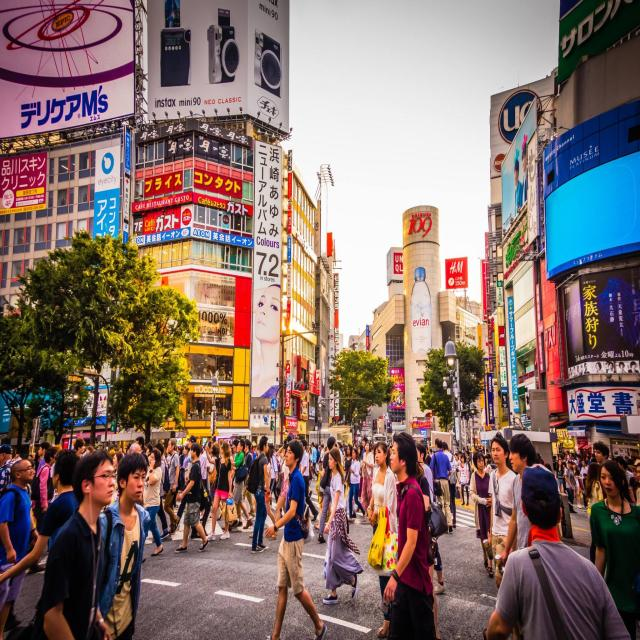body: (0, 426, 640, 504), (482, 462, 635, 640), (26, 449, 116, 639), (0, 450, 80, 640), (382, 430, 446, 640), (263, 438, 328, 640), (96, 452, 151, 640), (590, 458, 640, 640), (366, 441, 400, 638), (323, 446, 364, 604), (0, 458, 34, 640), (499, 431, 538, 567), (487, 430, 519, 590), (415, 442, 447, 594), (414, 460, 441, 640), (174, 441, 210, 553), (252, 279, 281, 401), (246, 434, 273, 554), (183, 352, 232, 418), (469, 450, 494, 579), (222, 439, 254, 532), (204, 439, 232, 541), (30, 446, 59, 533), (428, 436, 453, 536), (249, 446, 276, 538), (505, 136, 536, 216), (190, 439, 214, 540), (142, 448, 164, 557), (317, 436, 336, 544), (270, 442, 290, 540), (163, 437, 180, 536), (299, 438, 319, 522), (346, 446, 368, 522), (440, 439, 458, 528), (154, 442, 170, 540), (566, 358, 638, 379), (238, 439, 255, 521), (360, 441, 374, 520), (0, 443, 16, 499), (329, 413, 390, 425), (519, 366, 530, 424), (459, 453, 470, 506), (36, 441, 50, 477), (592, 440, 610, 465), (344, 444, 354, 486), (58, 192, 88, 206), (311, 442, 317, 474)
